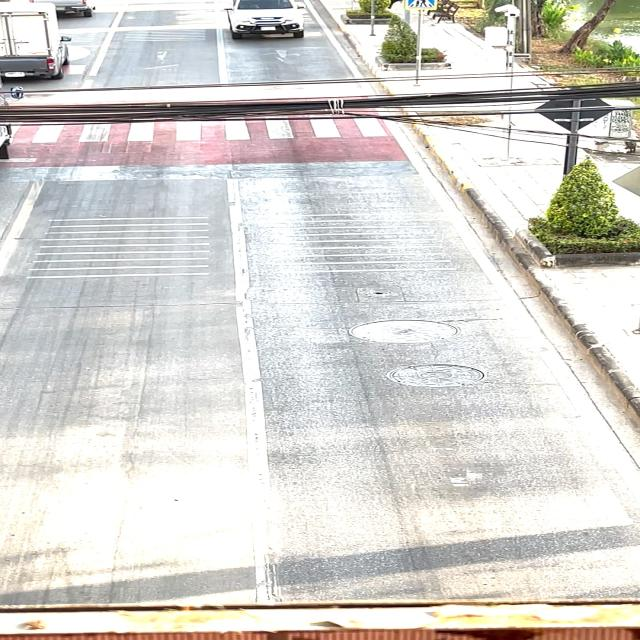car: (220, 0, 309, 50)
